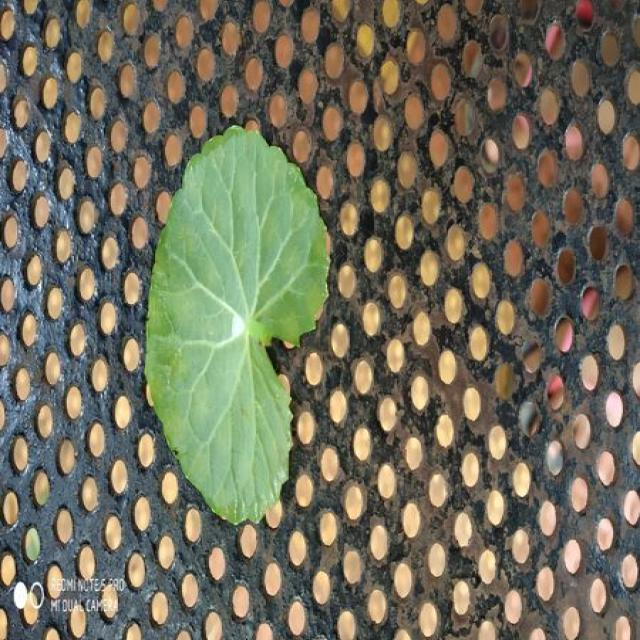bhrami: (145, 126, 328, 523)
